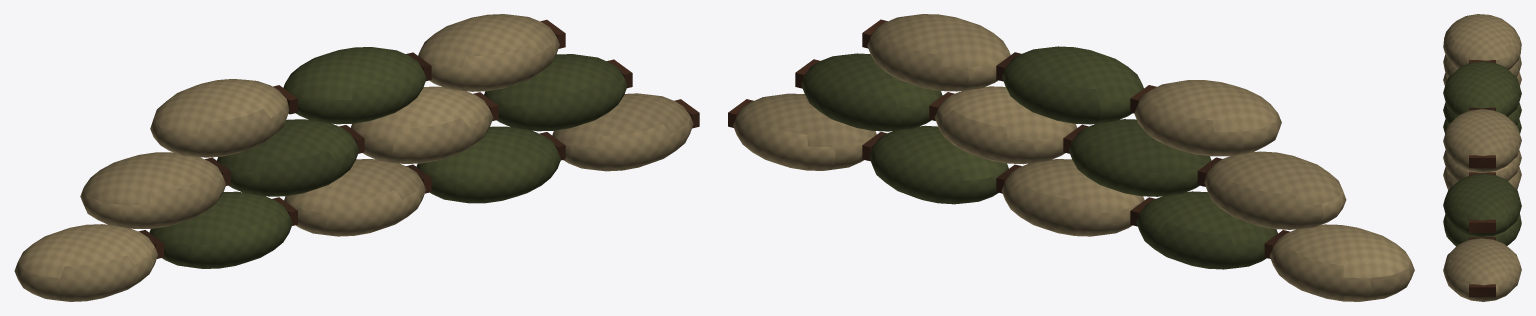
File: prop_sandbags.glb
3 views of the same model, side by side, from view 1: azimuth 30°, elevation 25°; view 2: azimuth 150°, elevation 25°; view 3: azimuth 270°, elevation 25° (orthographic). The views are drawn at different scales.
Parts seen in each view (by area): view 1: prop_sandbags; view 2: prop_sandbags; view 3: prop_sandbags.
Part boxes in pixels (left/top/right/bottom): prop_sandbags: left=14, top=14, right=699, bottom=301; prop_sandbags: left=728, top=14, right=1414, bottom=301; prop_sandbags: left=1443, top=14, right=1521, bottom=301.
Size of the model in its own units: 2.5 by 0.61 by 0.35.
Materials: 3 (3 with a texture image).
